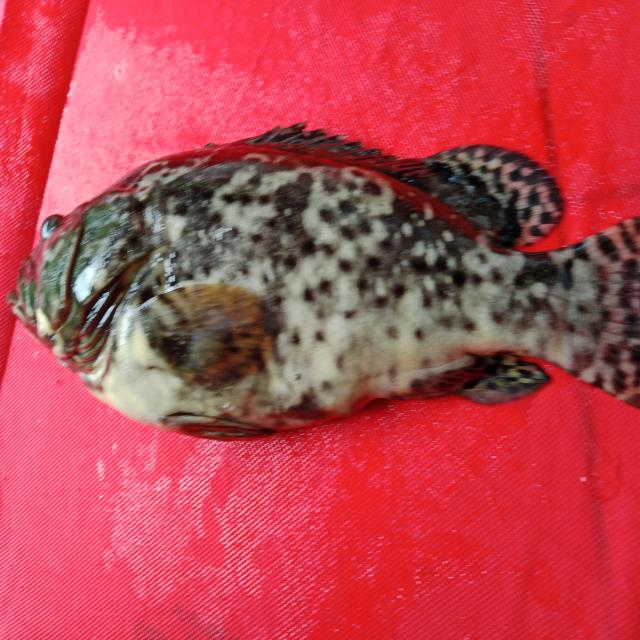ikan: (18, 103, 626, 464)
